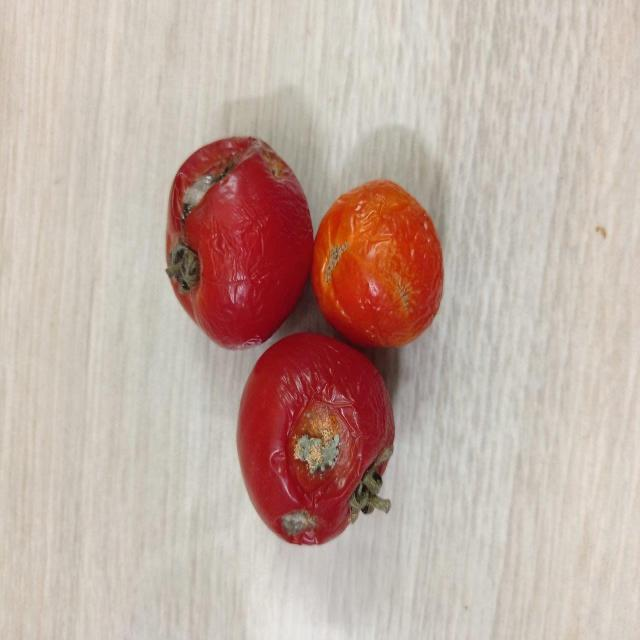Rotten: (238, 329, 396, 549), (162, 132, 312, 346)
